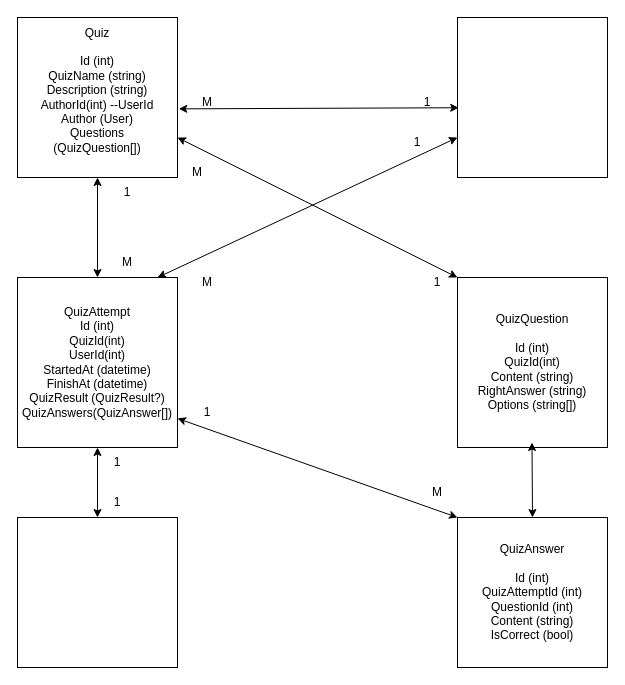
Image size: 625x685. Some labels were removed from this diagram. Each missing label, with the box of its shape:
QuizResult Id (int) QuizAttemptId (int) Score(int) Comment (string): (16, 516, 178, 668)
User Id (int) FirstName (string) LastName (string) QuizAttempts (QuizAttempt[]): (456, 16, 608, 178)
